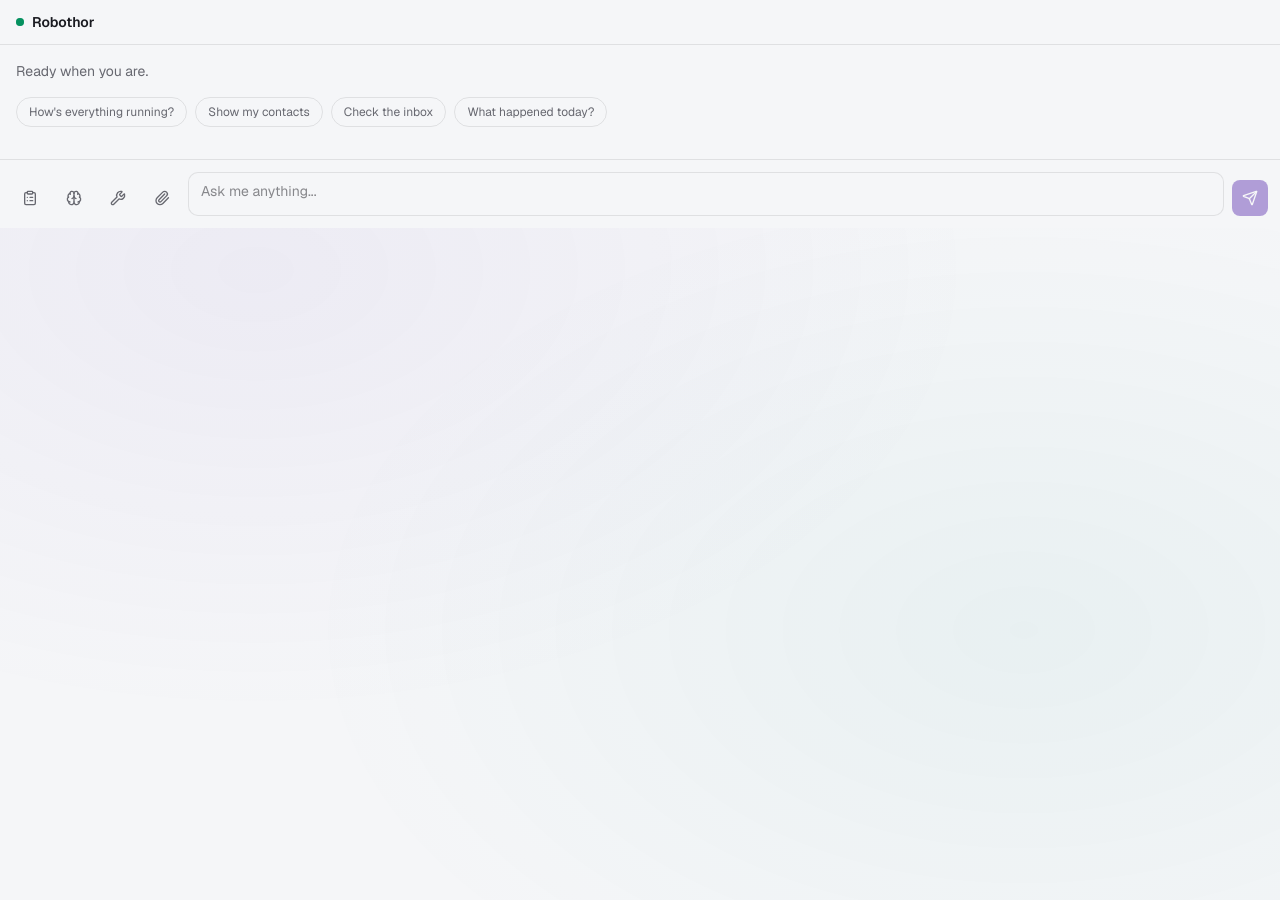
ordinary chat terminal outcomes › does not mistake partial text for completion after eof
The width and height of the screenshot is (1280, 900).
Type "Do the work" into the text box with test id "chat-input" at (706, 194), box [188,172,1224,216]
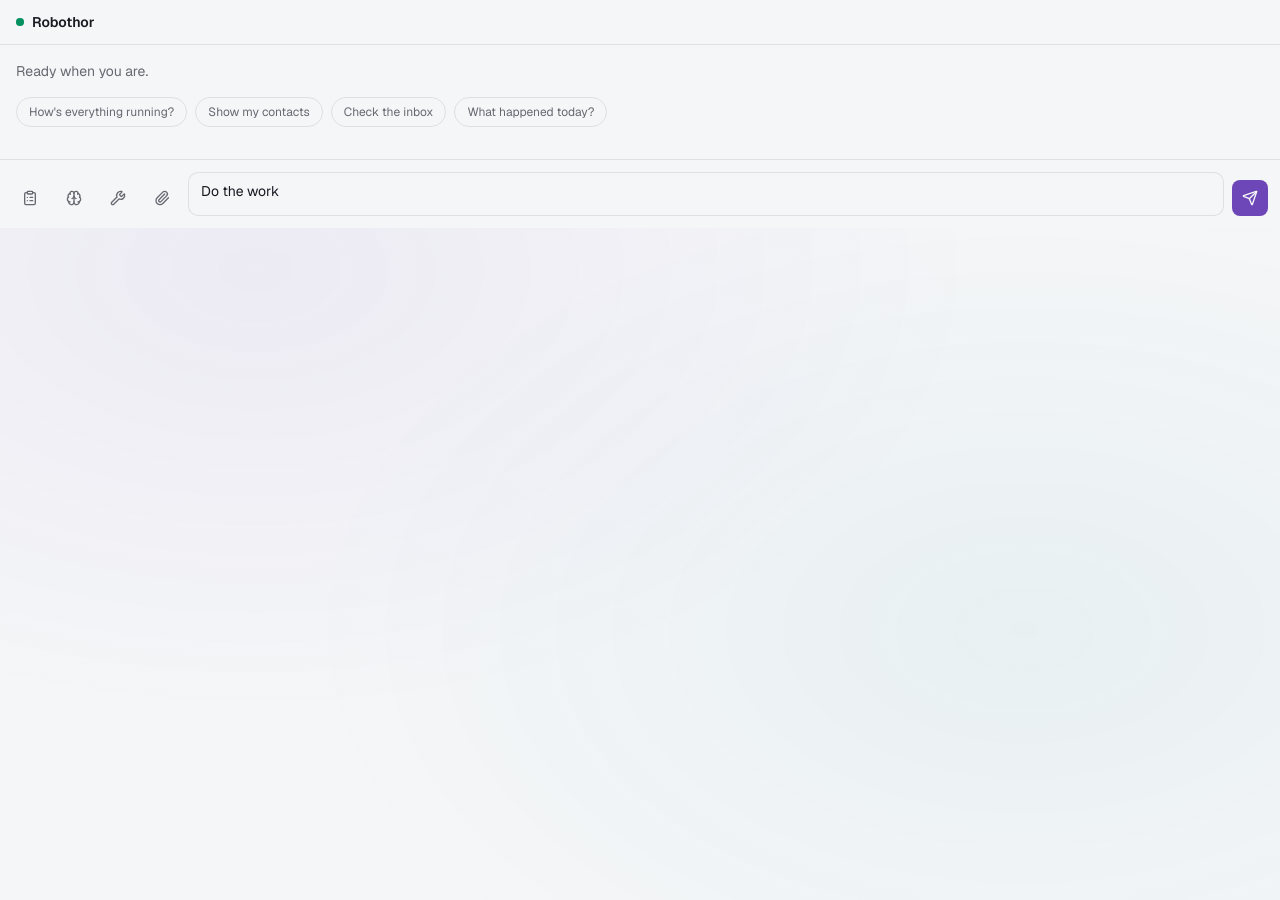
Click the button with test id "send-button" at (1250, 198), box [1232,180,1268,216]
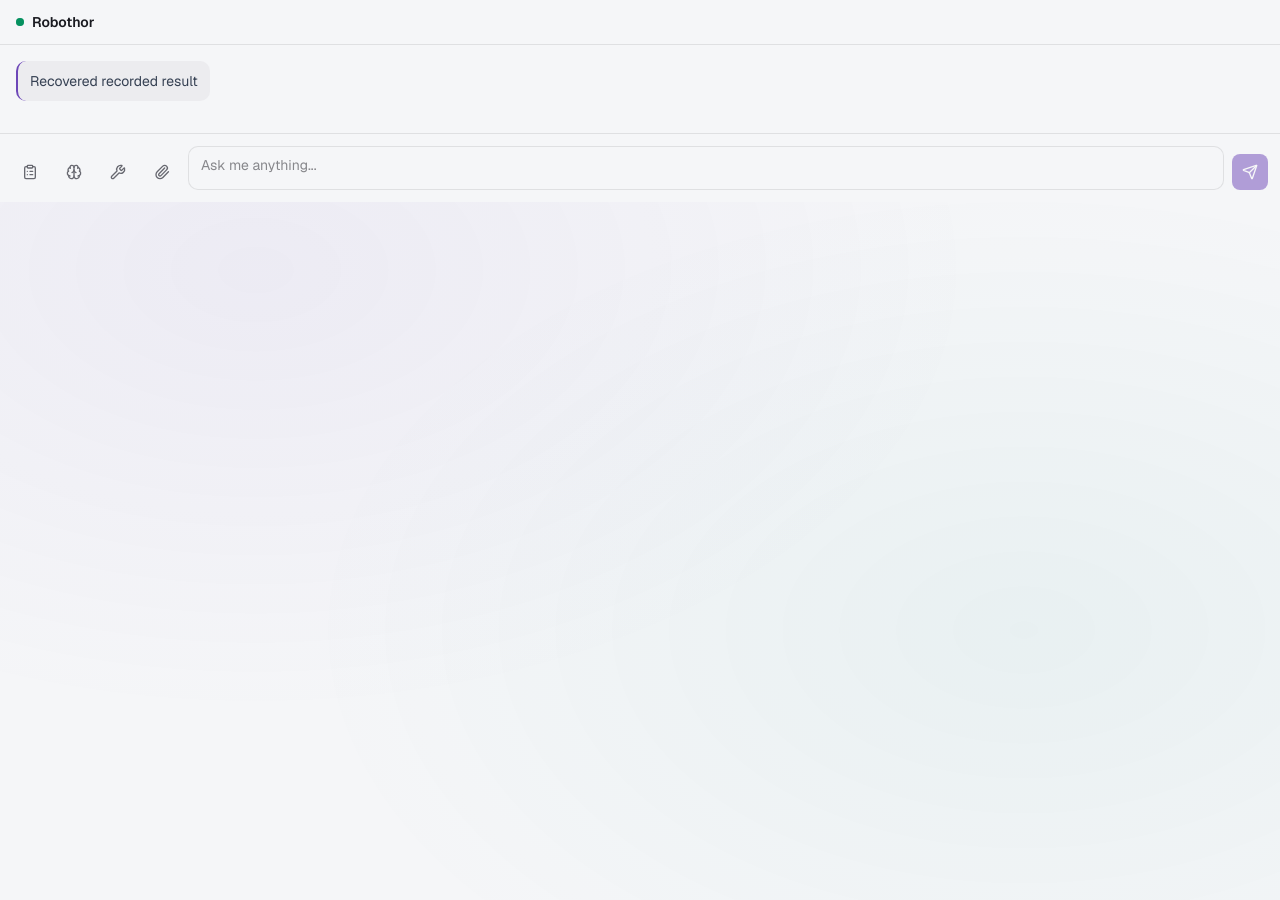
Result: the element with test id "message-assistant" reads "Recovered recorded result" at [30,72,198,90]
